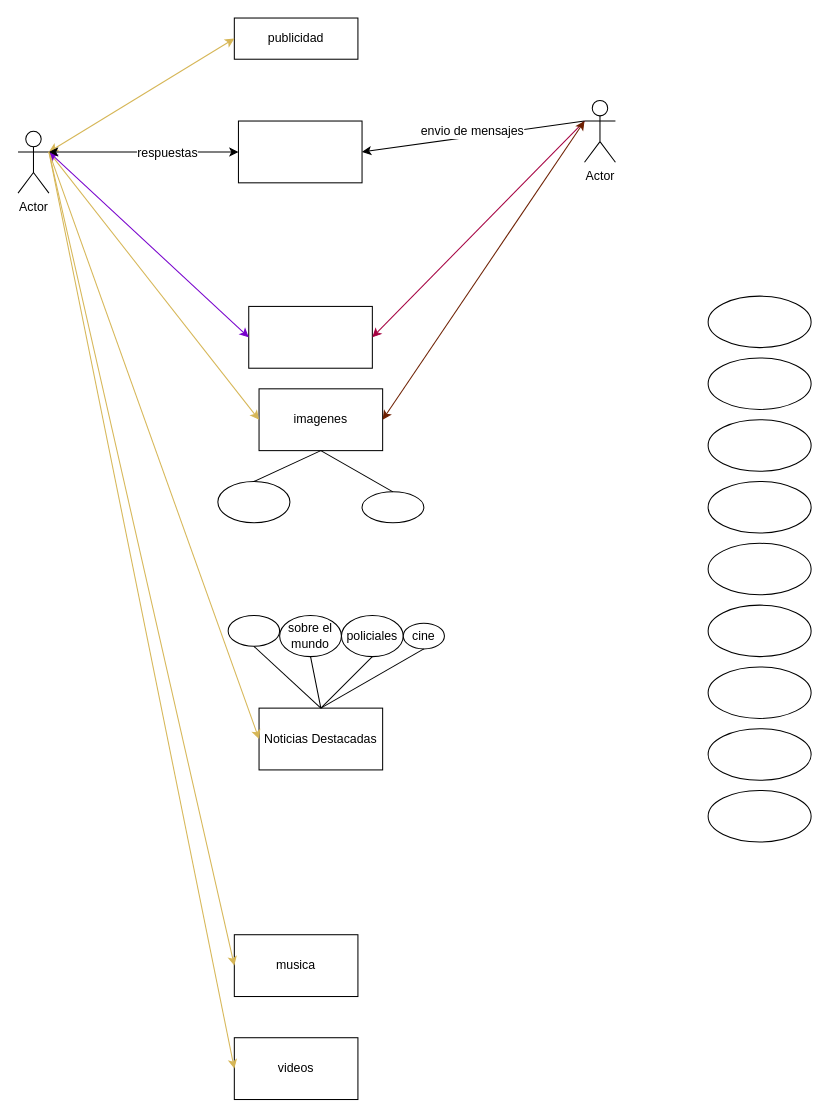
Some shapes in this 829 by 1118 pixel diagram are drawn without their labels. Here are the shapes that lost their labels. From the top down, the centre of each, then its label:
(299,151): comentarios
(310,336): informacion
(253,501): enviar imagenes
(392,507): subir
(253,630): moda
